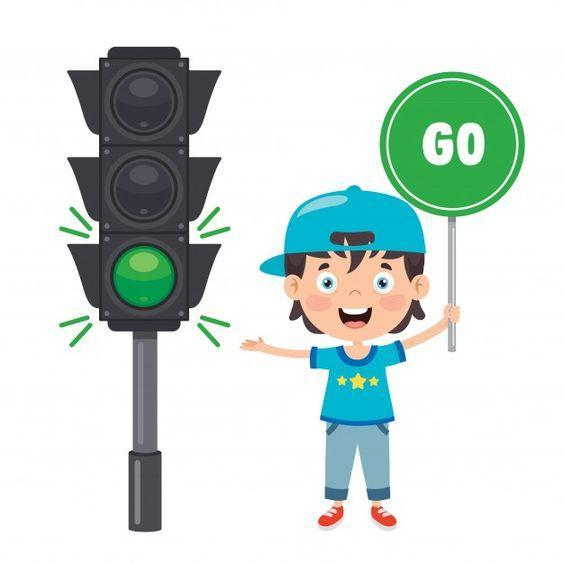green: (57, 47, 239, 341)
